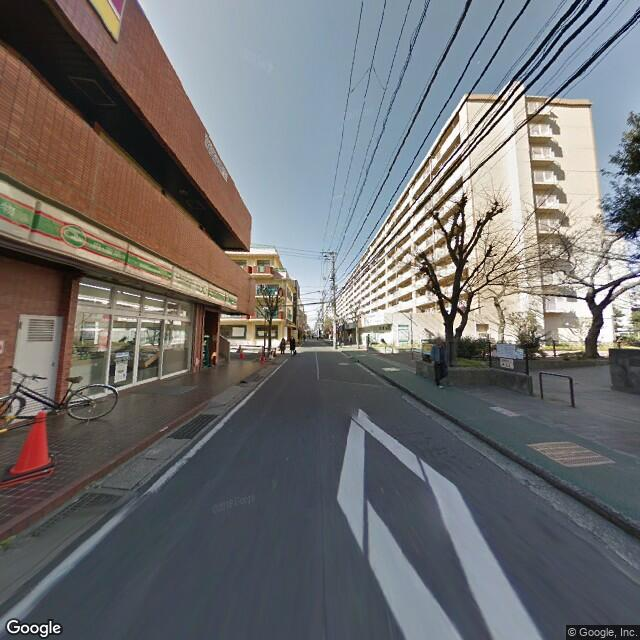lawson: (1, 176, 237, 317)
